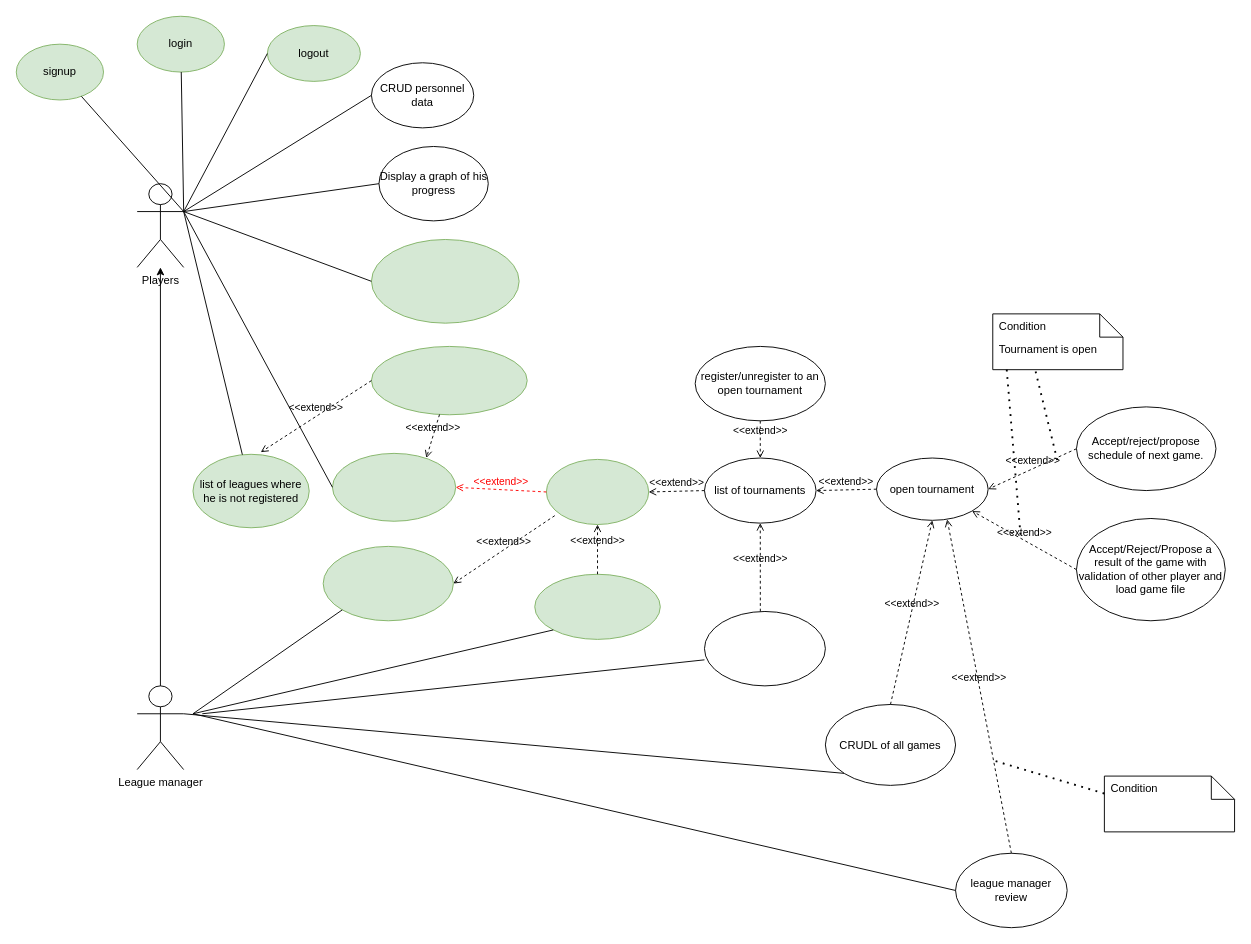
Image size: 1251x944. Some labels were removed from this diagram. Here are the shapes that lost their labels. From the top down, the box of each, then its label:
(371, 239, 519, 323): Load and analyze a game to assess the probability of cheating
(371, 345, 527, 415): register/unregister to an open league with validation of the league manager
(332, 452, 456, 521): list of leagues where he is registered
(545, 458, 649, 525): open league
(322, 545, 453, 621): List of his own leagues
(534, 573, 660, 639): RUL of players and registration request
(704, 611, 825, 686): CRUDL of tournements (no delete if result)
(1103, 775, 1235, 832): If a player reject result proposition
